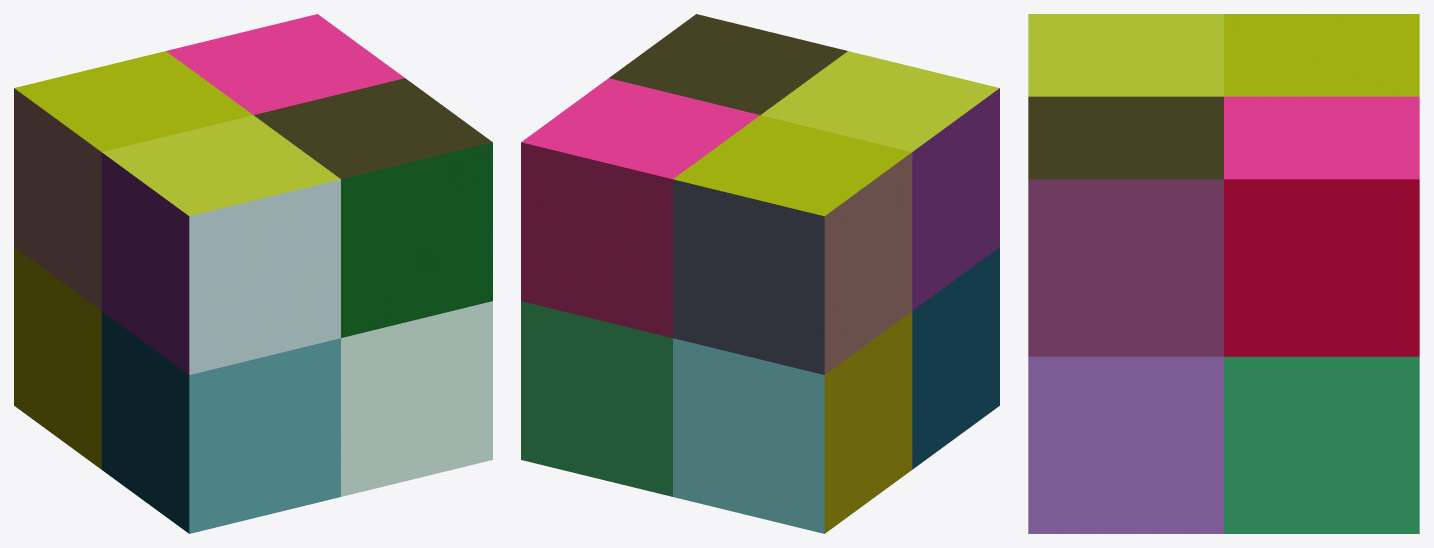
File: Linemod_background.obj
The picture shows the model from 3 angles, left to right: view 1: azimuth 30°, elevation 25°; view 2: azimuth 150°, elevation 25°; view 3: azimuth 270°, elevation 25°; orthographic projection. The views are drawn at different scales.
Size of the model in its own units: 20 by 20 by 20.
Materials: 1 (1 with a texture image).
